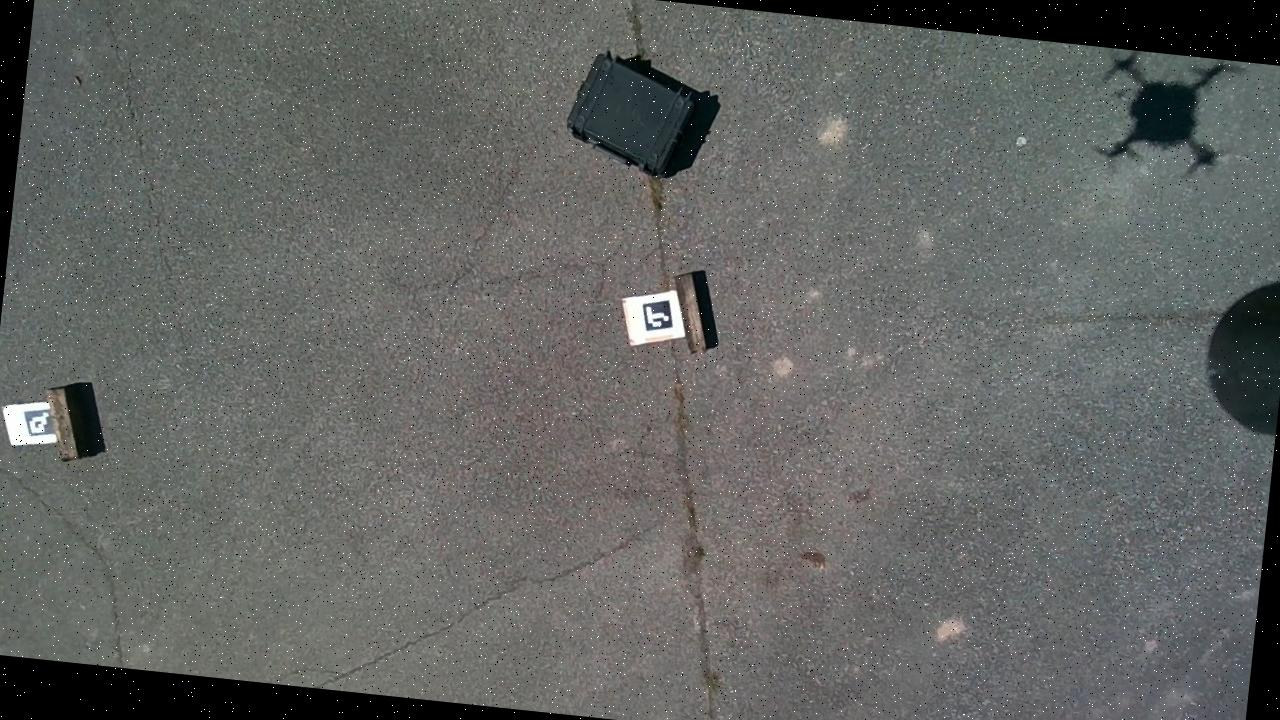rako: (564, 47, 701, 180)
